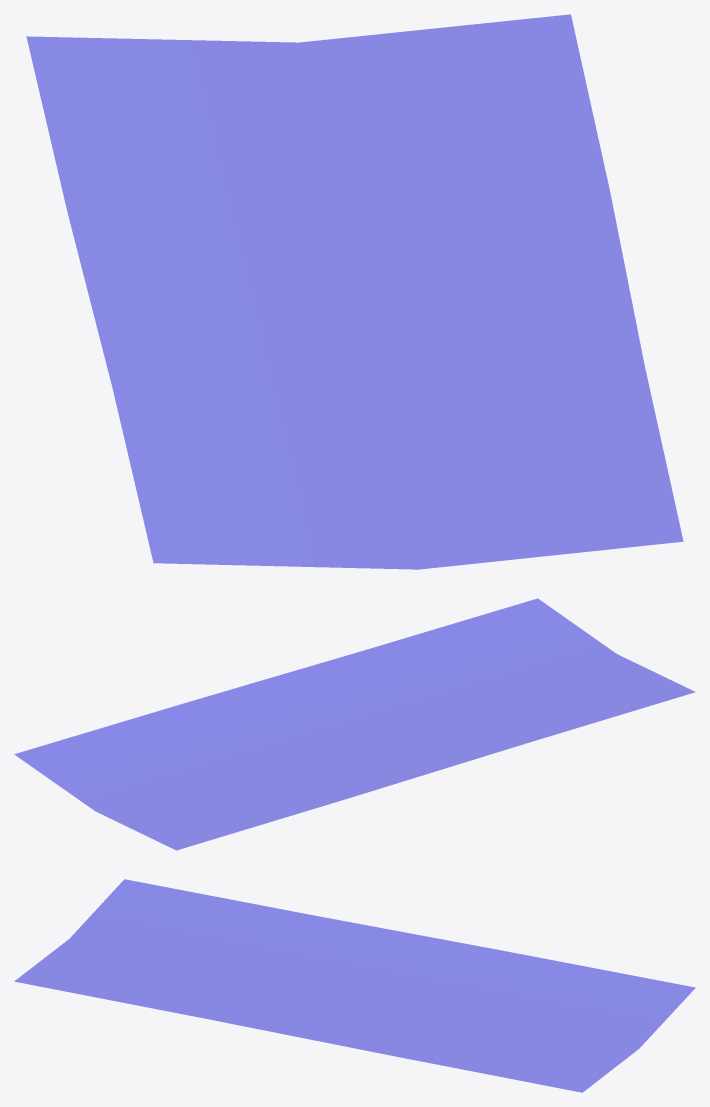
Rendered from track_la_coll_road_49.fbx.
The picture shows the model from 3 angles, top to bottom: view 1: azimuth 30°, elevation 25°; view 2: azimuth 150°, elevation 25°; view 3: azimuth 270°, elevation 25°; orthographic projection. The views are drawn at different scales.
Visible parts, largest first — view 1: track_la_coll_road_49; view 2: track_la_coll_road_49; view 3: track_la_coll_road_49.
Part boxes in pixels (x1,y1,x2,y2): track_la_coll_road_49: [26, 14, 683, 569]; track_la_coll_road_49: [14, 598, 694, 850]; track_la_coll_road_49: [14, 879, 695, 1092].
Bounding box in the file's own units: 40.72 × 0.7636 × 54.94.
